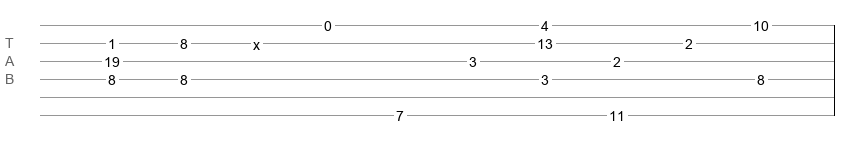0: (324, 18, 332, 28)
1: (108, 36, 116, 46)
10: (753, 18, 769, 28)
11: (609, 108, 625, 118)
13: (537, 36, 553, 46)
19: (104, 54, 120, 64)
2: (613, 54, 621, 64), (685, 36, 693, 46)
3: (469, 54, 477, 64), (541, 72, 549, 82)
4: (541, 18, 549, 28)
7: (396, 108, 404, 118)
8: (108, 72, 116, 82), (180, 36, 188, 46), (180, 72, 188, 82), (757, 72, 765, 82)
x: (253, 37, 260, 45)
